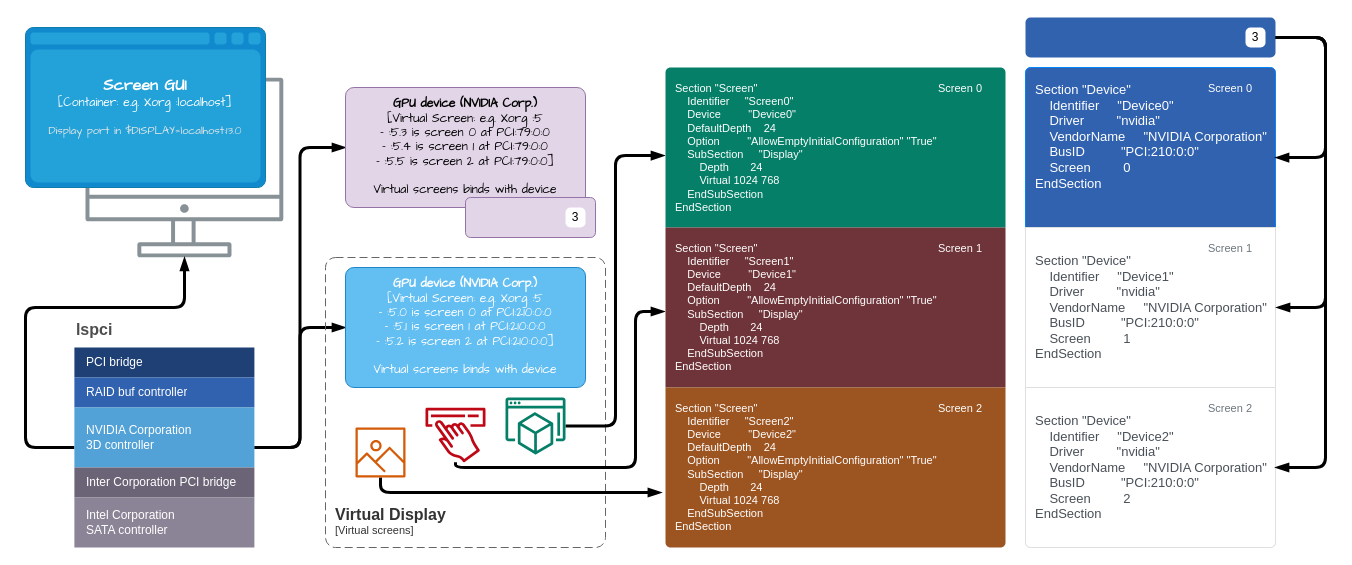
The diagram is 1352 pixels wide and 565 high, and some of its shapes have lost their labels. Each missing label, with the centre of its shape:
"PCI:210:0:0" goes at [1150,37].
"PCI:79:0:0" goes at [530,217].
